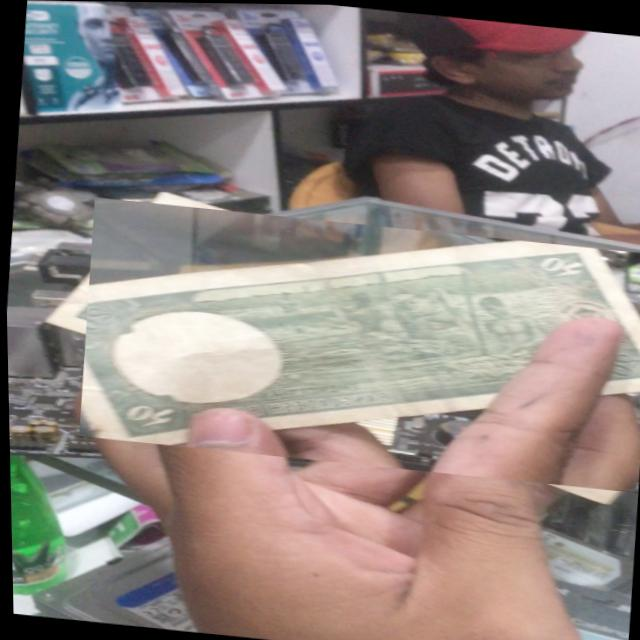Taka: (72, 196, 640, 490)
